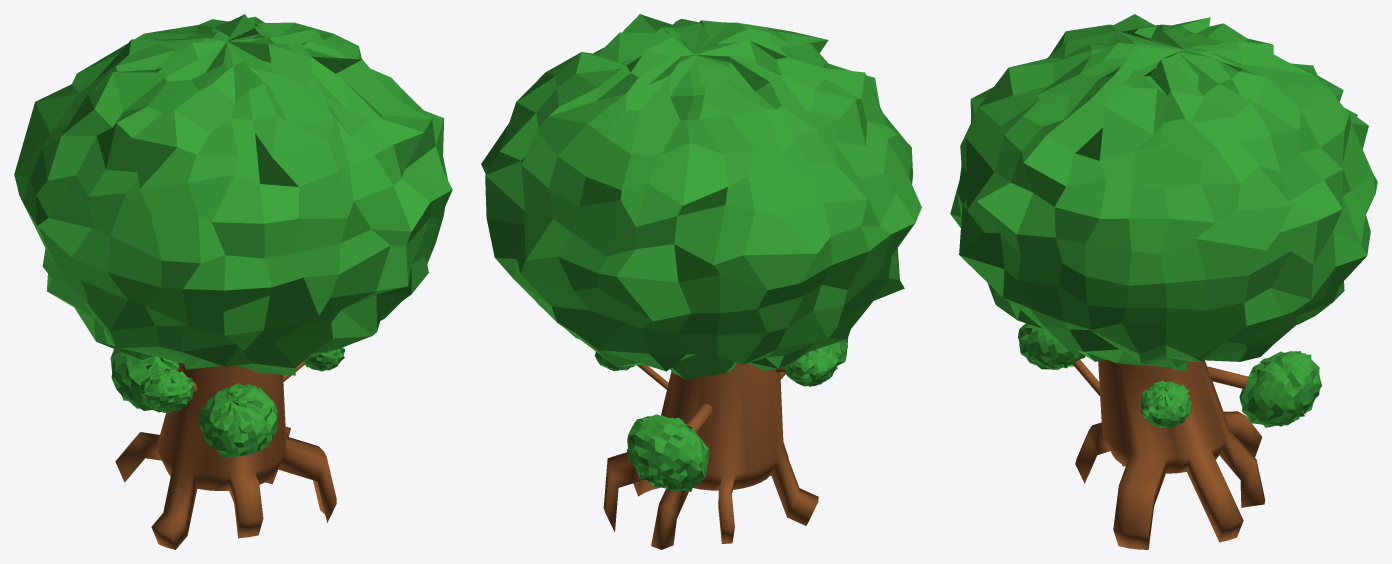
File: Tree.fbx
3 renders of one model, left to right at view 1: azimuth 30°, elevation 25°; view 2: azimuth 150°, elevation 25°; view 3: azimuth 270°, elevation 25°, orthographic.
Parts seen in each view (by area): view 1: Sphere, Cylinder, Sphere.002, Sphere.004, Sphere.003, Sphere.001; view 2: Sphere, Cylinder, Sphere.004, Sphere.003; view 3: Sphere, Cylinder, Sphere.004, Sphere.001, Sphere.002, Cylinder.004.
Boxes of the visible parts, left/top/right/bottom form: Sphere: left=14, top=14, right=452, bottom=375; Cylinder: left=115, top=362, right=336, bottom=549; Sphere.002: left=199, top=383, right=278, bottom=457; Sphere.004: left=110, top=349, right=179, bottom=412; Sphere.003: left=140, top=368, right=194, bottom=412; Sphere.001: left=303, top=347, right=344, bottom=371; Sphere: left=481, top=14, right=921, bottom=379; Cylinder: left=603, top=362, right=818, bottom=549; Sphere.004: left=627, top=414, right=709, bottom=491; Sphere.003: left=784, top=345, right=837, bottom=386; Sphere: left=950, top=14, right=1377, bottom=371; Cylinder: left=1075, top=359, right=1265, bottom=549; Sphere.004: left=1239, top=351, right=1321, bottom=427; Sphere.001: left=1140, top=380, right=1191, bottom=428; Sphere.002: left=1018, top=323, right=1085, bottom=369; Cylinder.004: left=1207, top=366, right=1247, bottom=388.
Size of the model in its own units: 670 by 821 by 670.
